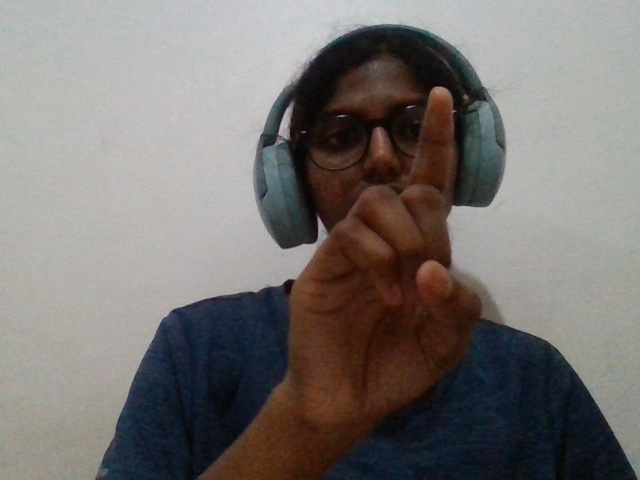D: (262, 77, 487, 453)
